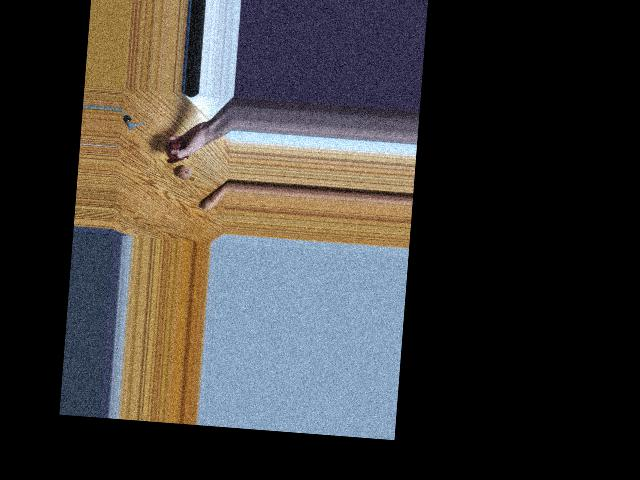onion: (177, 160, 196, 179)
